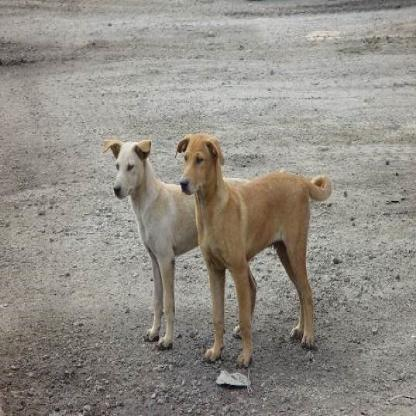dog: (181, 116, 325, 370), (106, 113, 200, 338)
